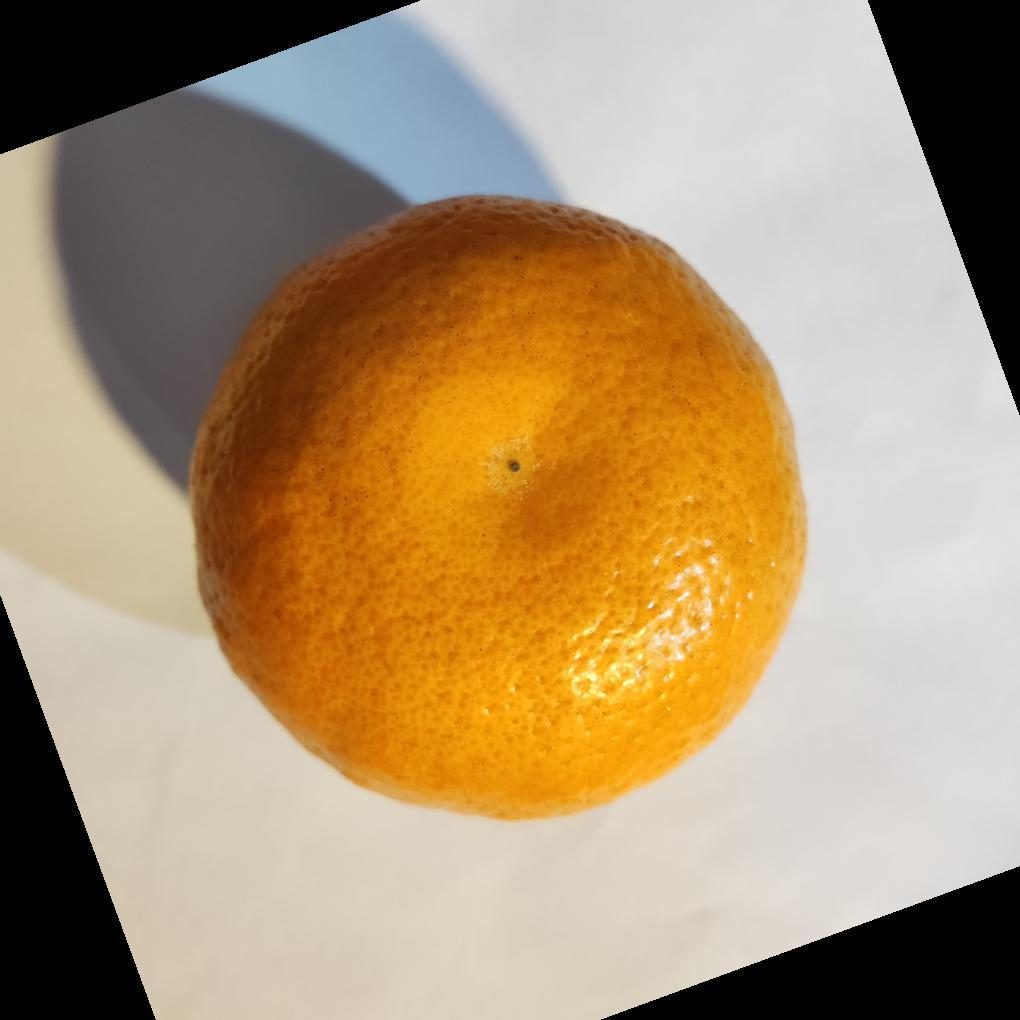FreshGuava: (186, 197, 811, 826)
